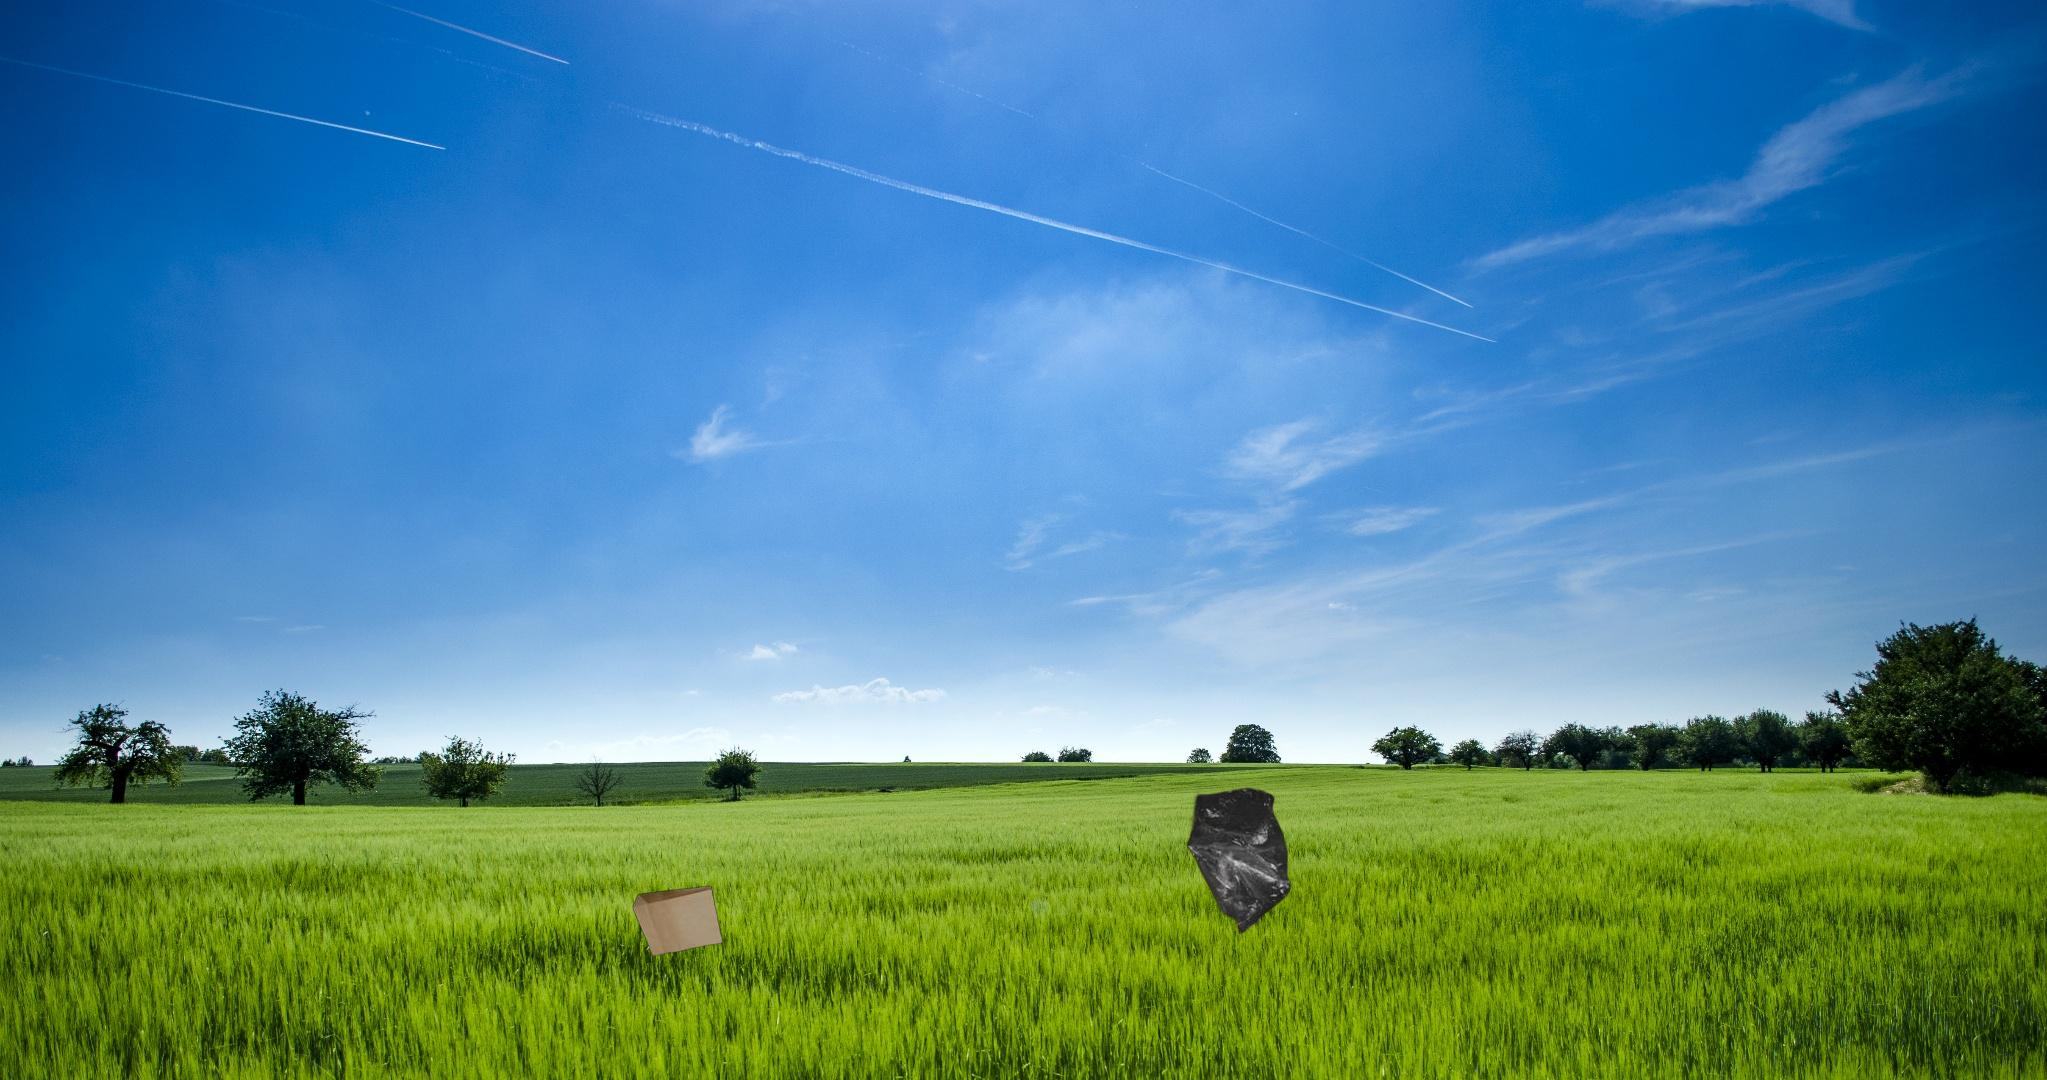paper-bag: (632, 882, 726, 958)
plastic-bag: (1185, 785, 1294, 937)
